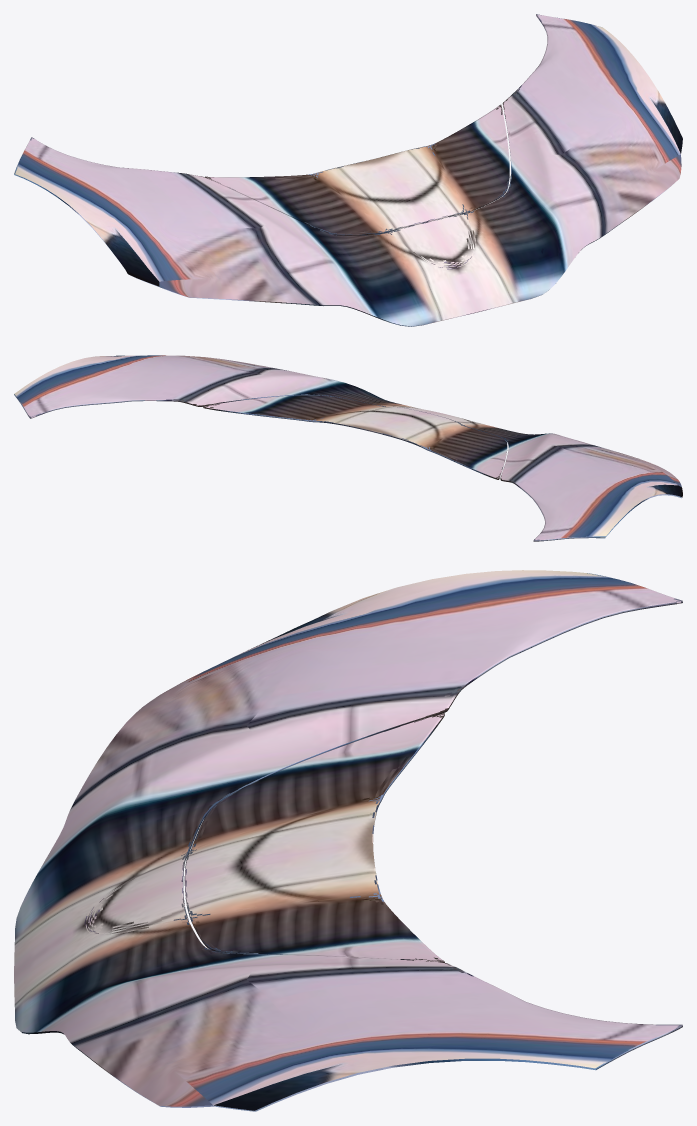
Rendered from Cofre.fbx.
3 views of the same model, one above another, from view 1: azimuth 30°, elevation 25°; view 2: azimuth 150°, elevation 25°; view 3: azimuth 270°, elevation 25° (orthographic). The views are drawn at different scales.
Parts seen in each view (by area): view 1: Cofre; view 2: Cofre; view 3: Cofre.
Part boxes in pixels (x1=…): Cofre: x1=14, y1=14, x2=682, y2=326; Cofre: x1=14, y1=355, x2=682, y2=541; Cofre: x1=14, y1=570, x2=682, y2=1111.
Bounding box in the file's own units: 204 × 31.32 × 116.
